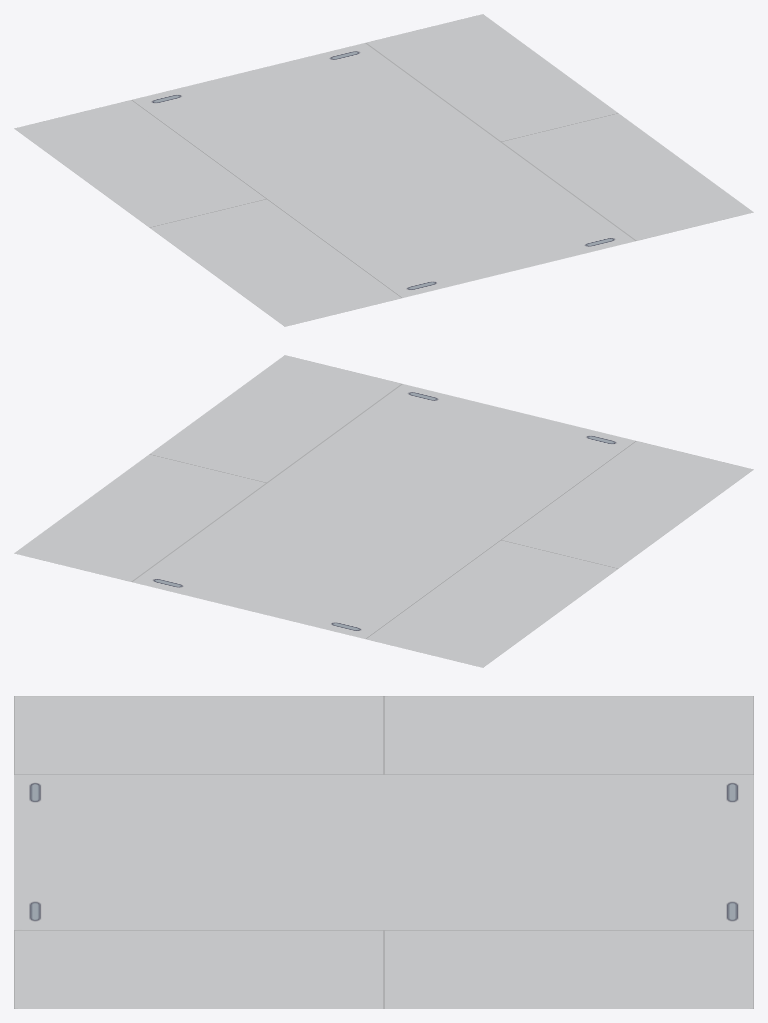
File: Roof_03_LP.FBX
The picture shows the model from 3 angles, top to bottom: view 1: azimuth 30°, elevation 25°; view 2: azimuth 150°, elevation 25°; view 3: azimuth 270°, elevation 25°; orthographic projection. The views are drawn at different scales.
Parts seen in each view (by area): view 1: Roof_03_LP; view 2: Roof_03_LP; view 3: Roof_03_LP.
Part boxes in pixels (left/top/right/bottom): Roof_03_LP: left=14, top=14, right=753, bottom=326; Roof_03_LP: left=14, top=355, right=753, bottom=667; Roof_03_LP: left=14, top=696, right=753, bottom=1008.
Size of the model in its own units: 6 by 2.62e-07 by 6.
2 materials, 2 textured.
